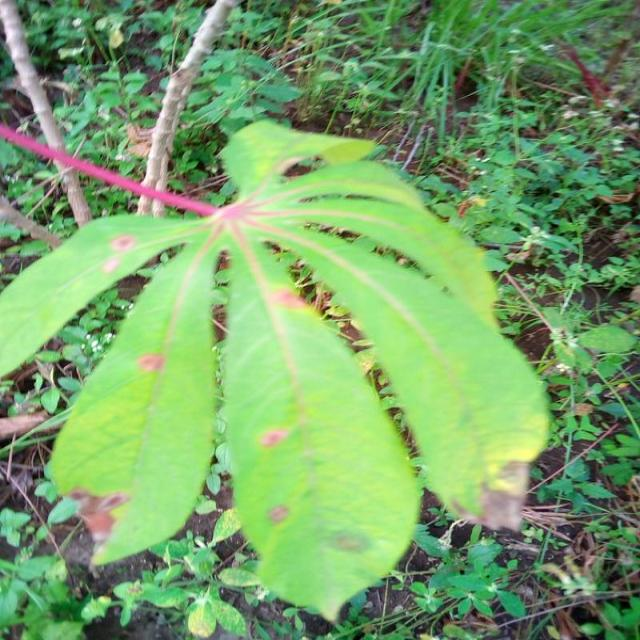cassava leaf: (1, 116, 552, 624), (220, 218, 422, 624), (48, 226, 218, 569)
